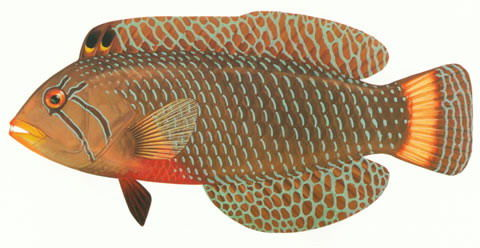fish: (9, 9, 474, 233)
